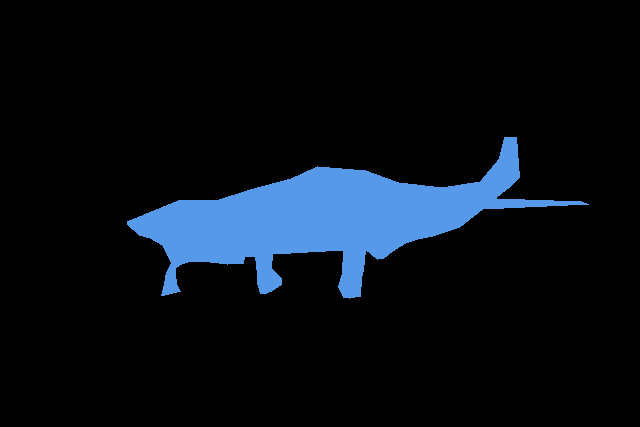Airplane: (127, 137, 588, 299)
